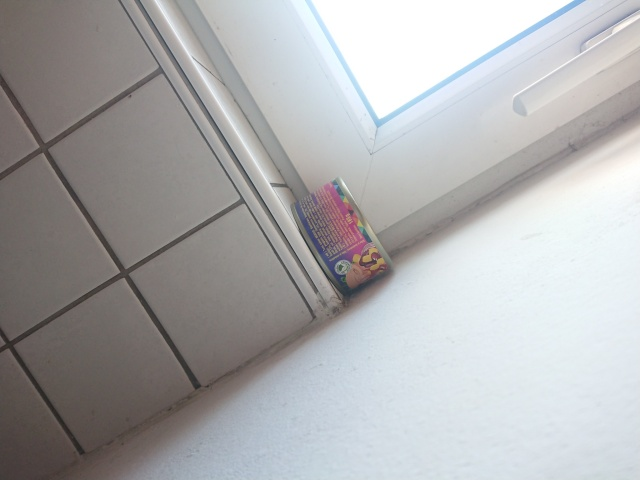Giana Tuna Salad Mexico 185g: (288, 173, 396, 302)
